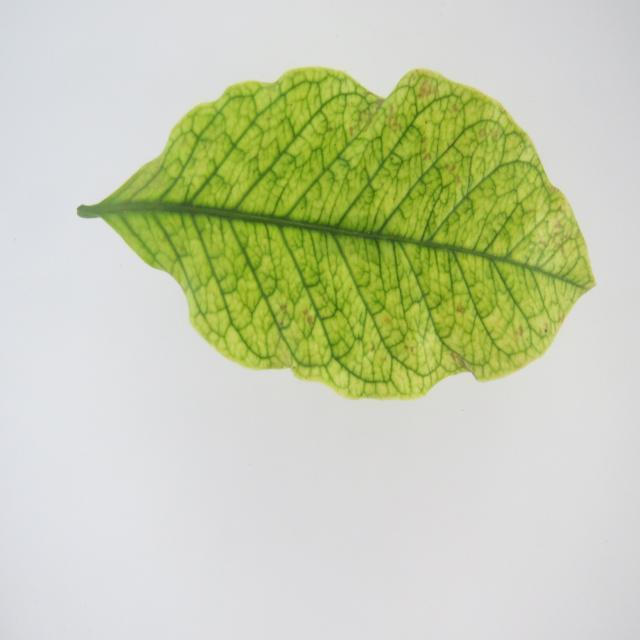DeficienciaNutricional-Hierro: (78, 68, 594, 398)
